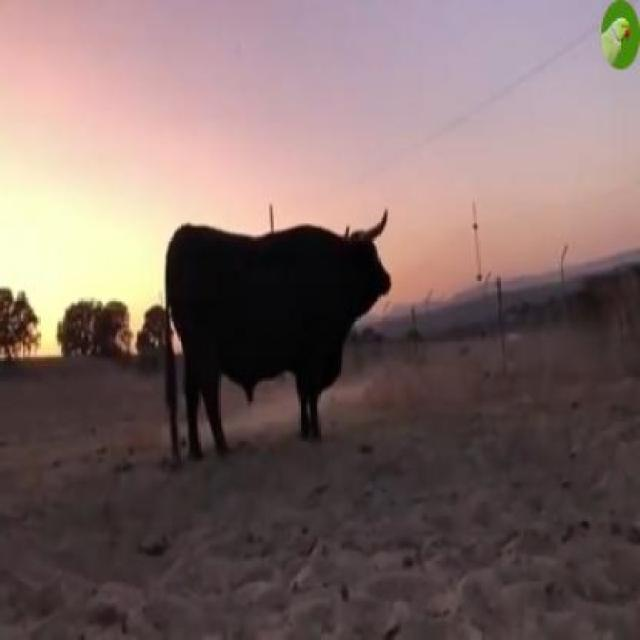Cow: (164, 206, 396, 466)
